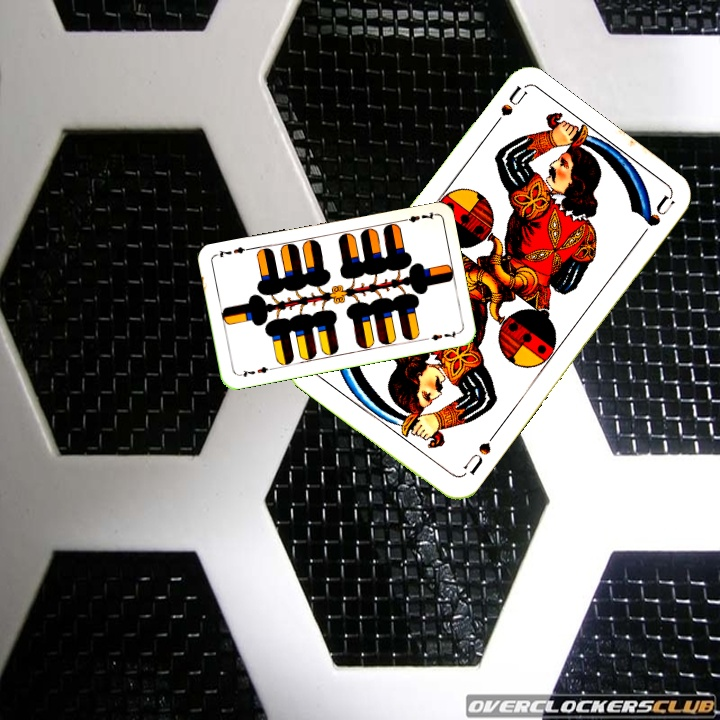E7: (235, 362, 275, 379), (397, 208, 437, 225)
SU: (484, 83, 529, 136), (459, 428, 499, 478)
